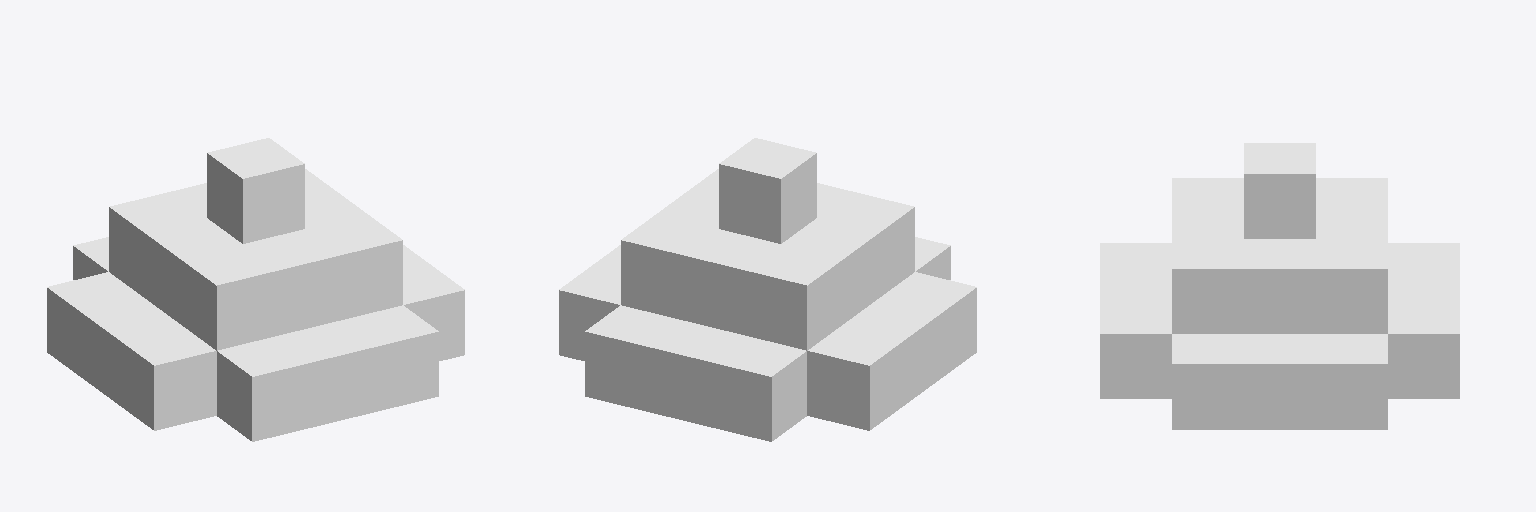
Rendered from needle.obj.
3 views of the same model, side by side, from view 1: azimuth 30°, elevation 25°; view 2: azimuth 150°, elevation 25°; view 3: azimuth 270°, elevation 25° (orthographic).
Parts seen in each view (by area): view 1: needle; view 2: needle; view 3: needle.
Boxes of the visible parts, x1=… form: needle: x1=47, y1=138, x2=464, y2=441; needle: x1=559, y1=138, x2=976, y2=441; needle: x1=1100, y1=143, x2=1459, y2=429.
Size of the model in its own units: 5 by 3 by 5.